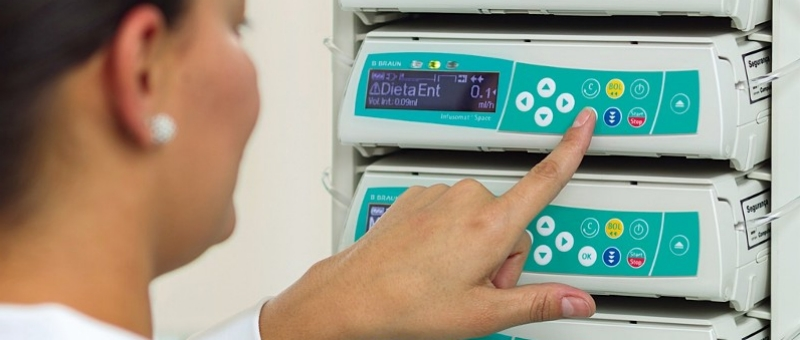BBraun Infusomat Space: (330, 22, 773, 171)
